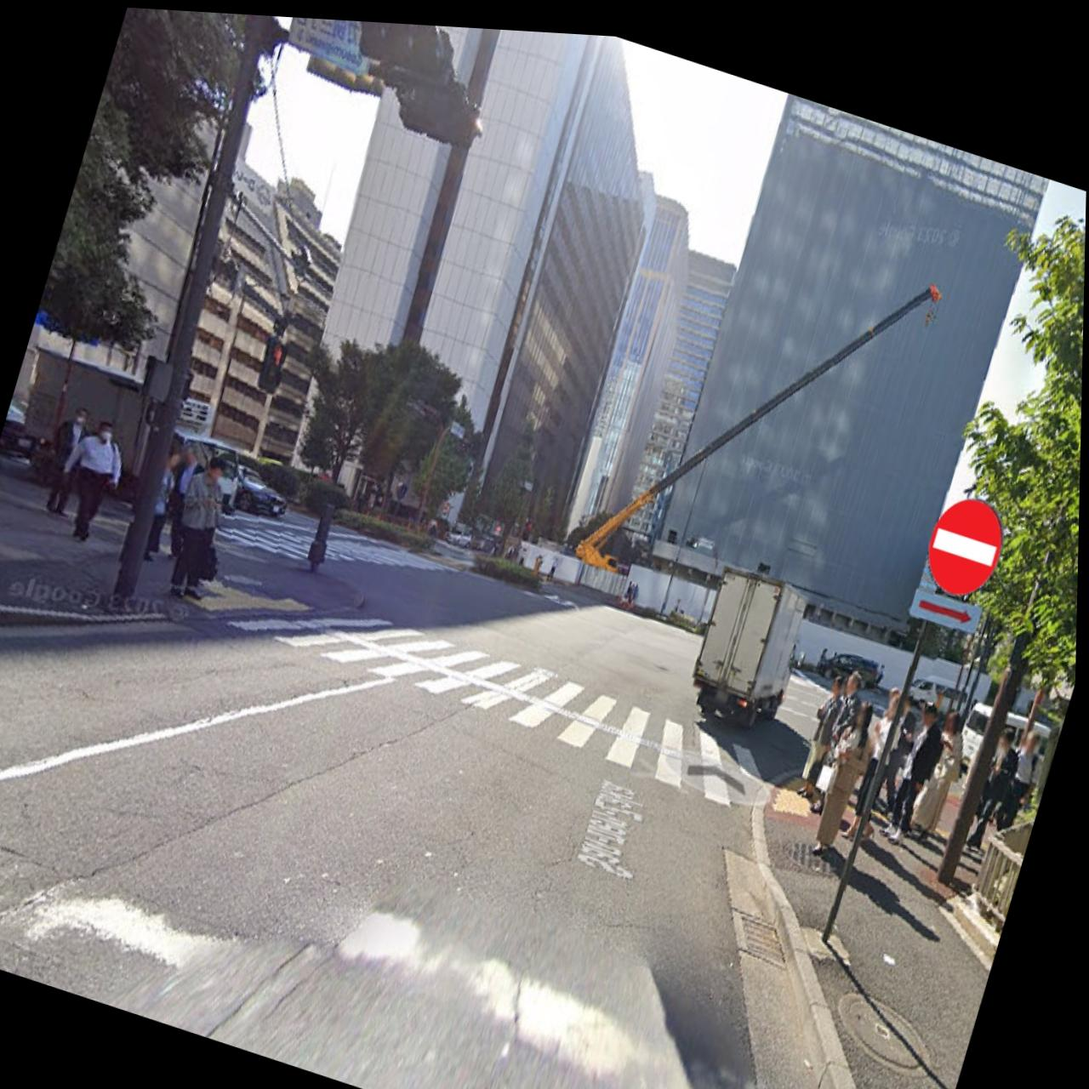barrier: (913, 481, 1017, 612)
